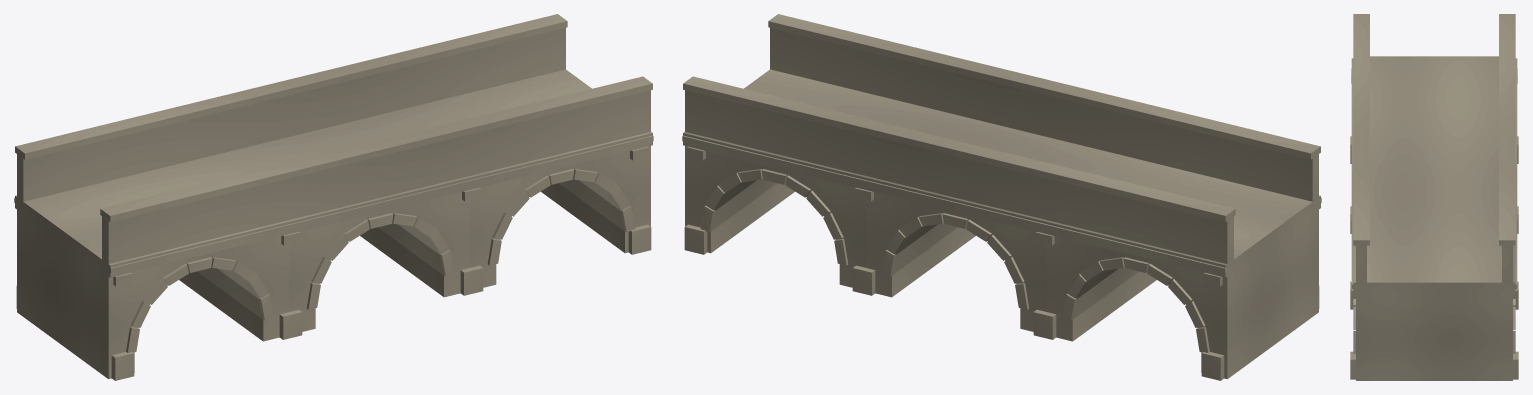
3 renders of one model, left to right at view 1: azimuth 30°, elevation 25°; view 2: azimuth 150°, elevation 25°; view 3: azimuth 270°, elevation 25°, orthographic. The views are drawn at different scales.
Parts seen in each view (by area): view 1: prague; view 2: prague; view 3: prague.
Boxes of the visible parts, <box> form: prague: <box>14,14,653,380</box>; prague: <box>682,14,1321,380</box>; prague: <box>1350,14,1518,380</box>.
Bounding box in the file's own units: 7.35 × 2.13 × 2.31.
1 material, 1 textured.
